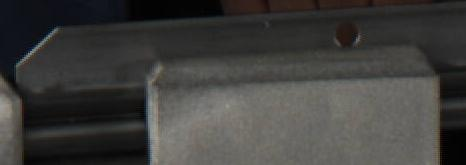cut: (12, 21, 133, 158)
holes: (333, 17, 360, 48)
